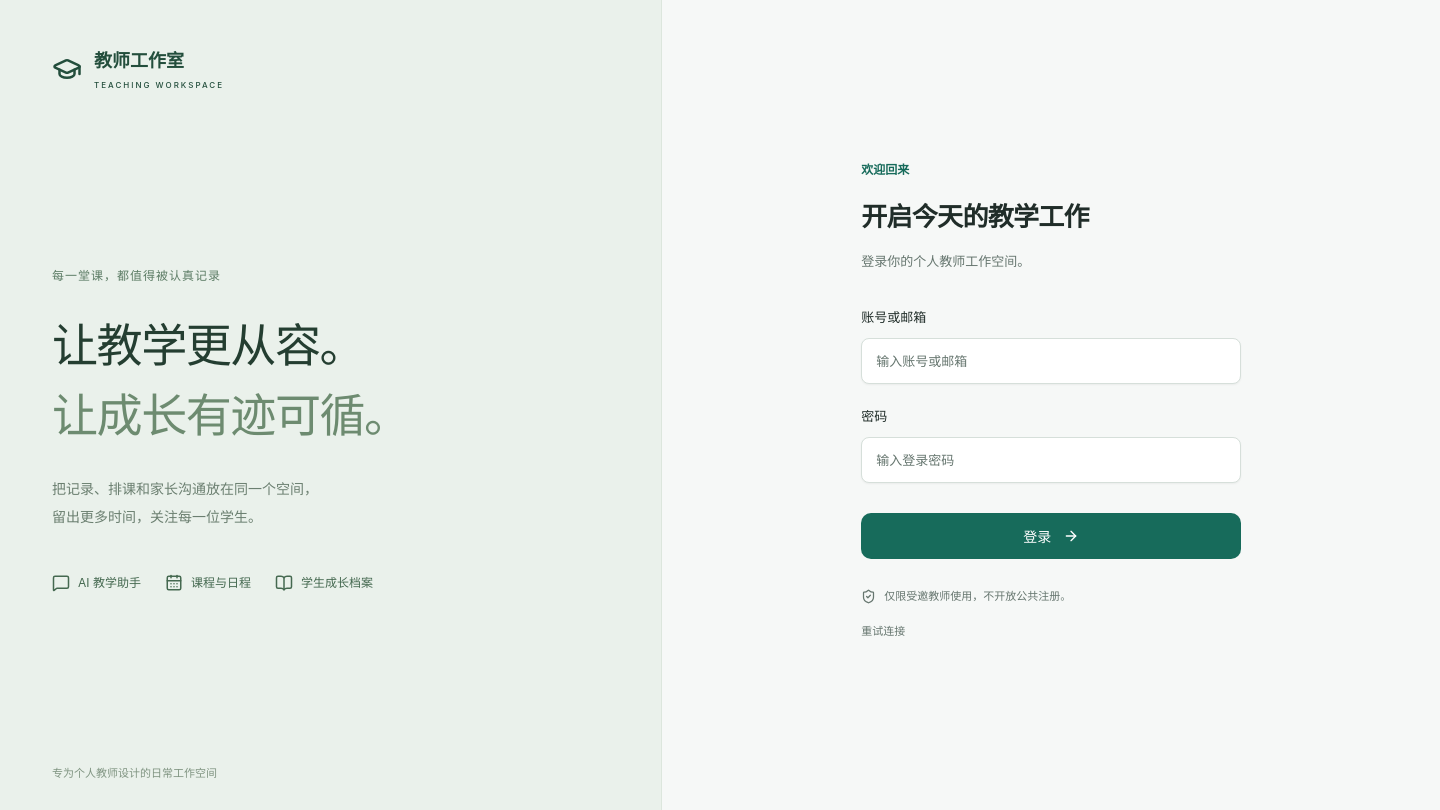
Scenario: 认证壳 › 登录失败显示错误且不加载业务工作区
Expected: the heading "开启今天的教学工作" is shown, [861,201,1089,232]
Type "teacher@example.com" into the field labelled "账号或邮箱" at {"x": 1051, "y": 361}, box [861,338,1241,384]
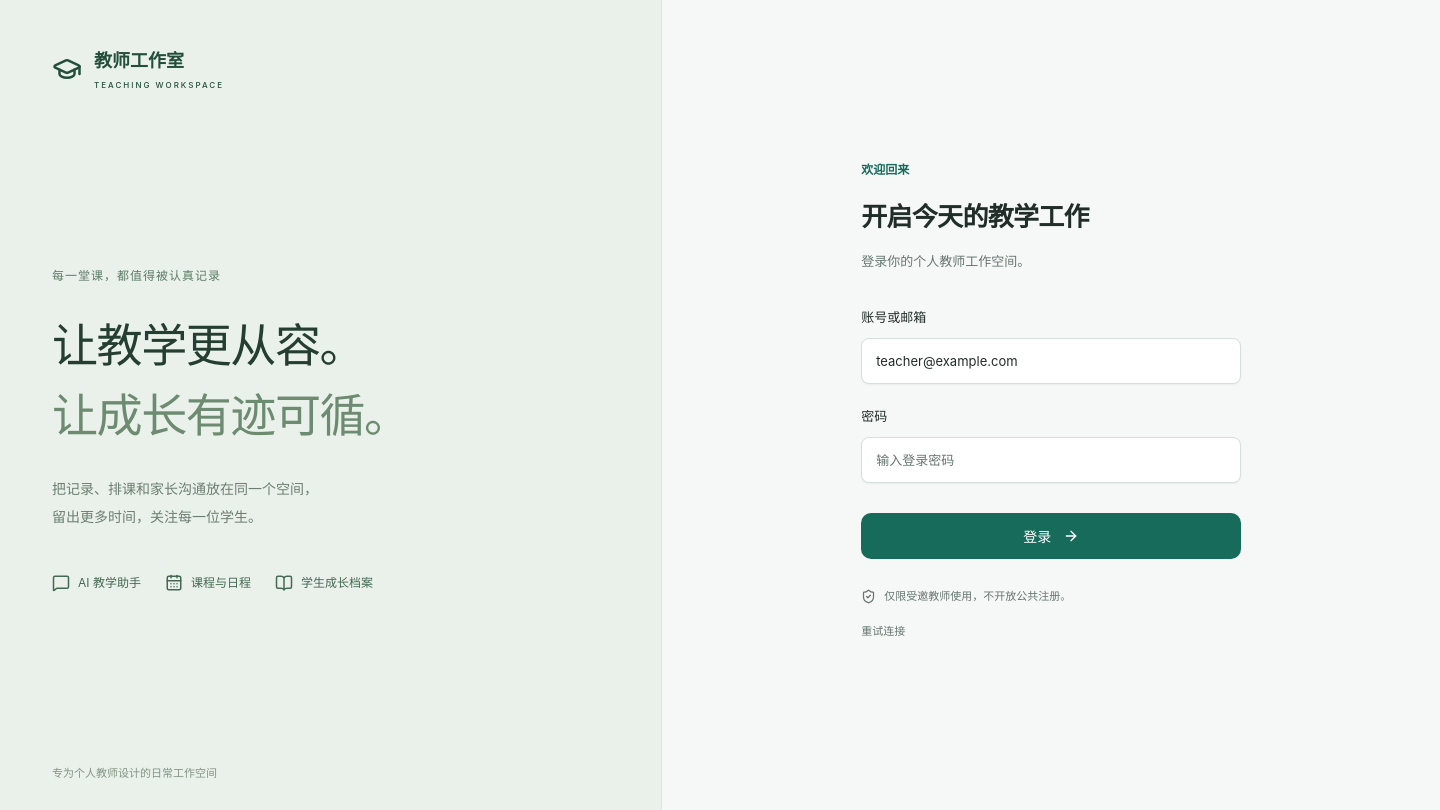
Type "wrong-password" into the password field labelled "密码" at {"x": 1051, "y": 460}, box [861,437,1241,483]
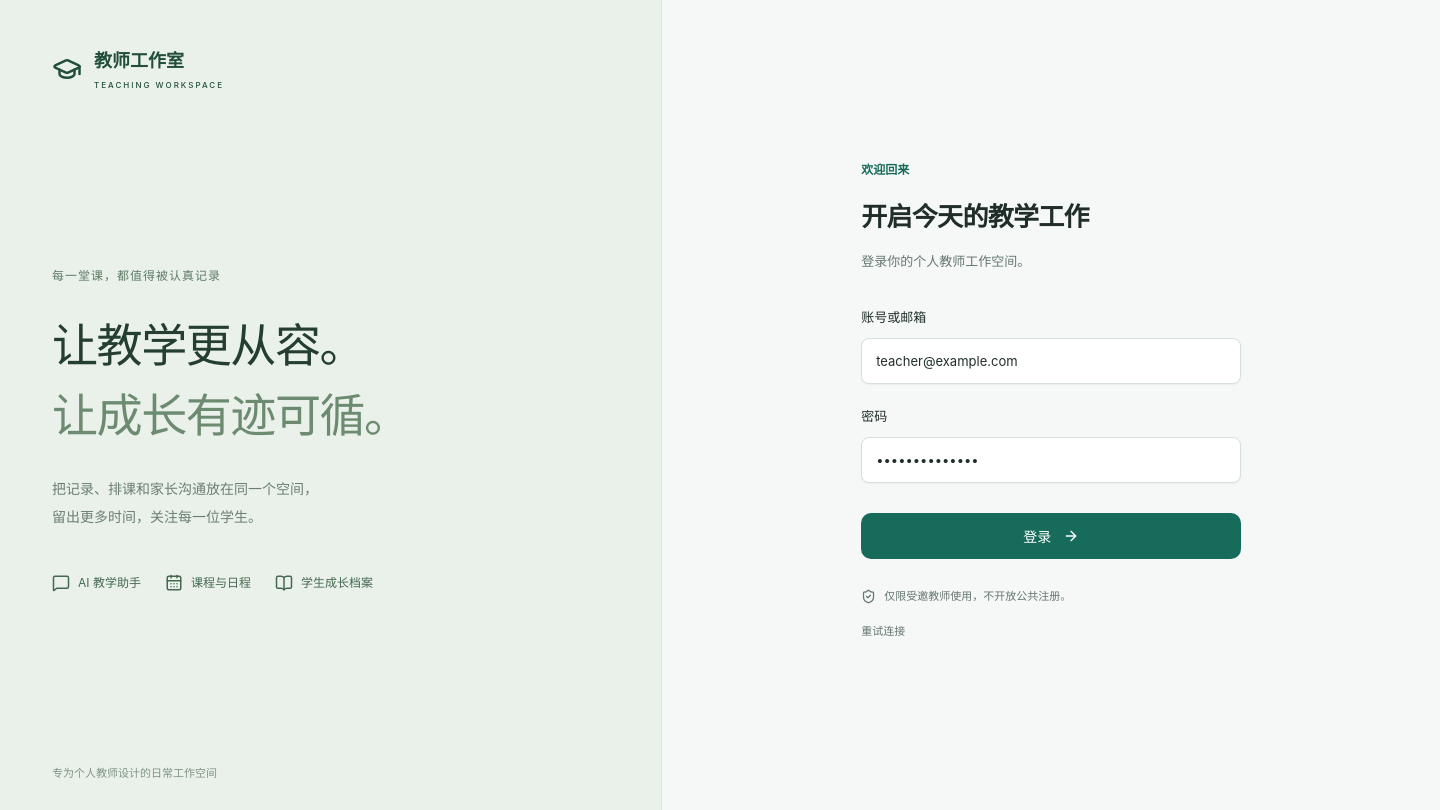
Click the button "登录" at {"x": 1051, "y": 536}, box [861,513,1241,559]
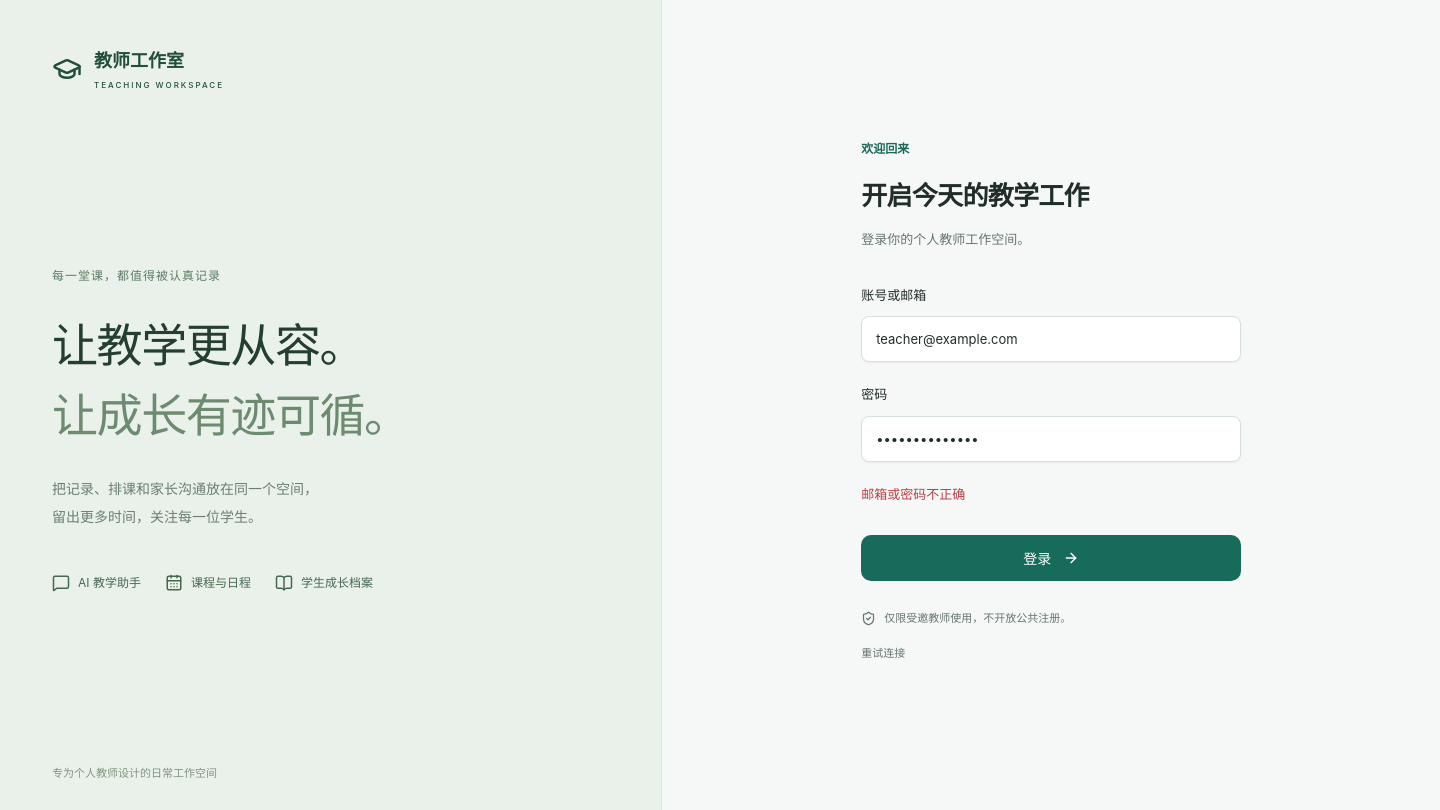
Now the message reads "邮箱或密码不正确", box [861,486,965,502]
